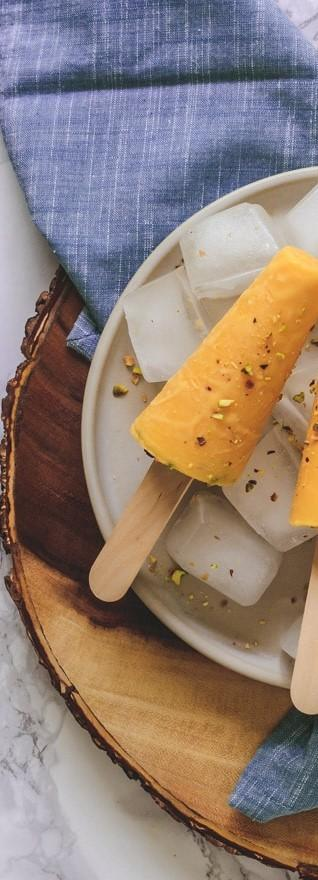Kulfi: (122, 244, 318, 492)
